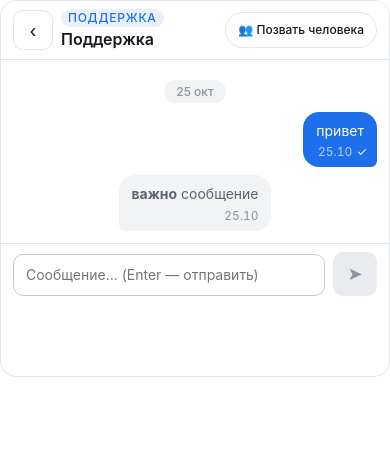
Scenario: ChatRoom: композер › Enter отправляет (POST sendMessage), сообщение падает в ленту с ✓
Expected: the text "важно" is shown, [132,185,177,202]
Type "сколько стоит доставка?" into the text box labelled "Сообщение".
click(169, 275); type("сколько стоит доставка?")  # box [13,254,325,296]
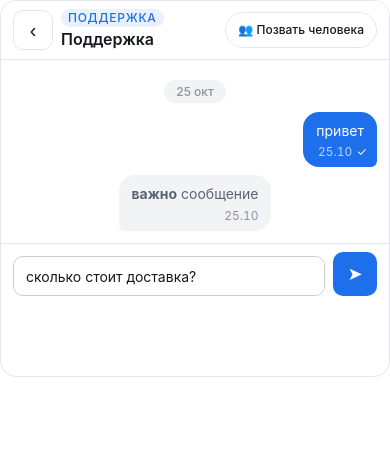
Press Enter in the text box named "Сообщение", box [13,256,325,296]
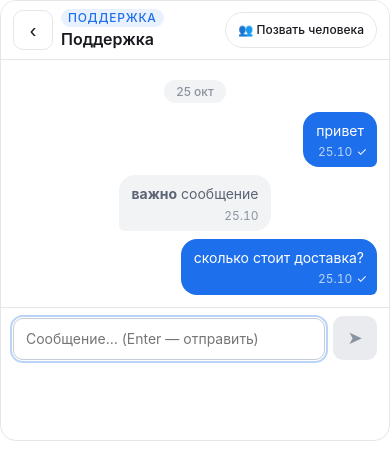
Now the element with class "chat-msg--own" that starts with "сколько стоит доставка?" is shown, box [181,239,377,295]
Now the text box labelled "Сообщение" is empty, box [13,318,325,360]
